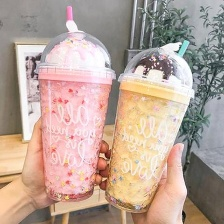glass: (100, 45, 197, 213), (31, 31, 117, 206)
